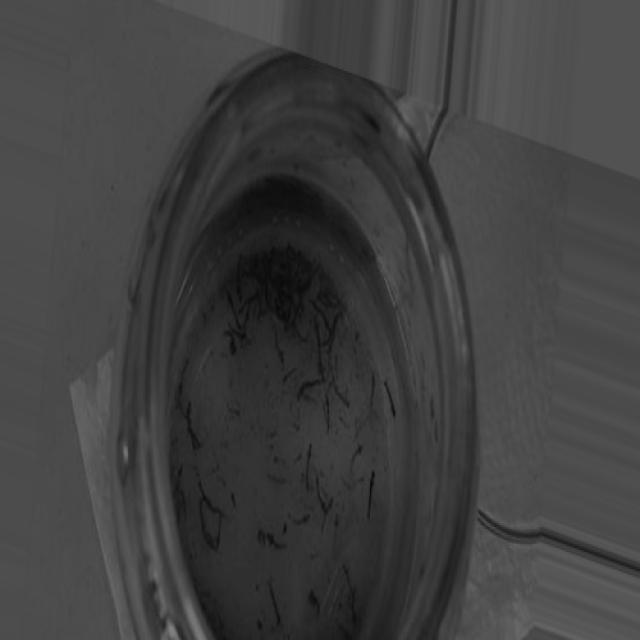larvas: (199, 479, 222, 514), (314, 321, 324, 380), (269, 582, 282, 626), (302, 264, 321, 291), (201, 502, 212, 548), (312, 301, 331, 327), (299, 379, 323, 398), (349, 591, 362, 625), (187, 399, 195, 453), (334, 380, 349, 408), (288, 304, 303, 332), (326, 318, 342, 344), (305, 445, 314, 491), (322, 497, 336, 525), (343, 565, 356, 595), (171, 466, 186, 492), (384, 382, 396, 414), (348, 448, 364, 472), (178, 359, 190, 391), (240, 290, 259, 310), (233, 254, 243, 292), (315, 480, 327, 510), (230, 294, 240, 329), (309, 591, 323, 615), (368, 472, 375, 518), (224, 332, 237, 356), (216, 513, 224, 552), (329, 290, 346, 308), (264, 288, 274, 318), (292, 512, 311, 527), (293, 325, 307, 345), (240, 312, 250, 340), (369, 374, 377, 408), (268, 537, 285, 553), (325, 394, 331, 436), (278, 335, 286, 365), (283, 369, 296, 386)
